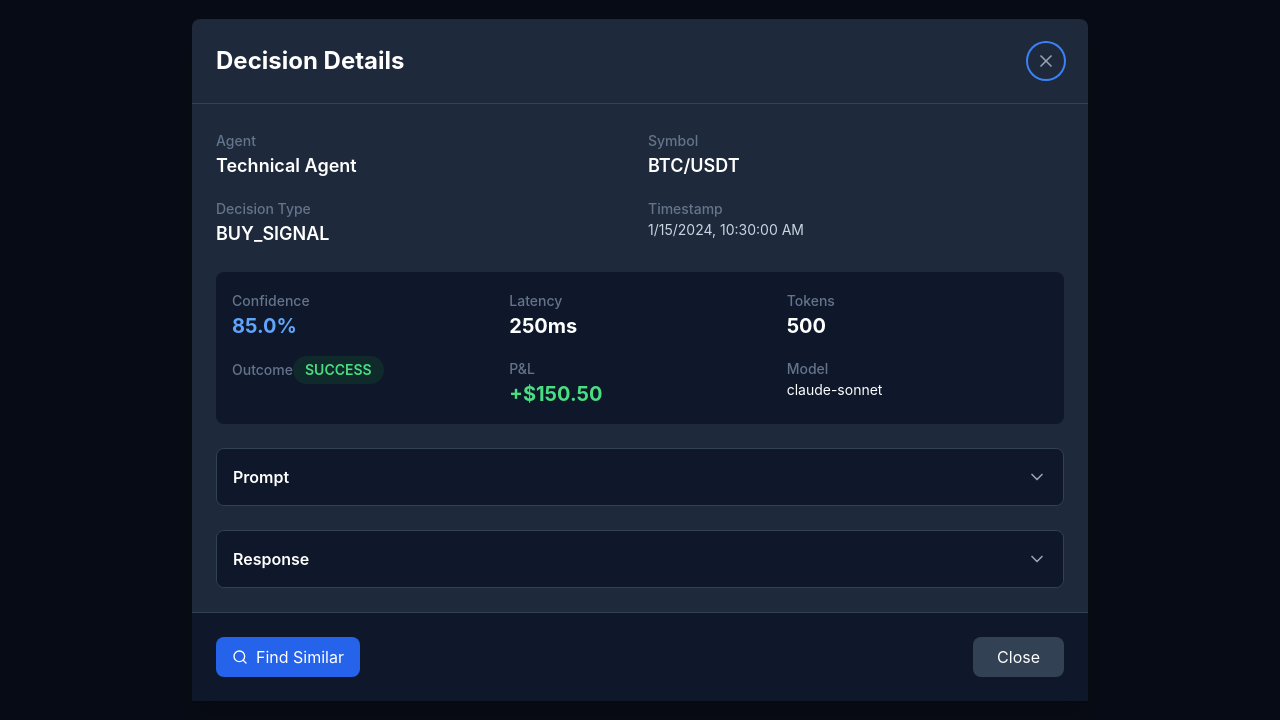
Test: DecisionDetail › Expand/Collapse Sections › prompt section expands when clicked
The image size is (1280, 720).
What coordinates should you click on to do the following:
click the button with aria-label "expand prompt"
I would click on:
 (261, 477)
Its box is [217, 449, 1063, 505].
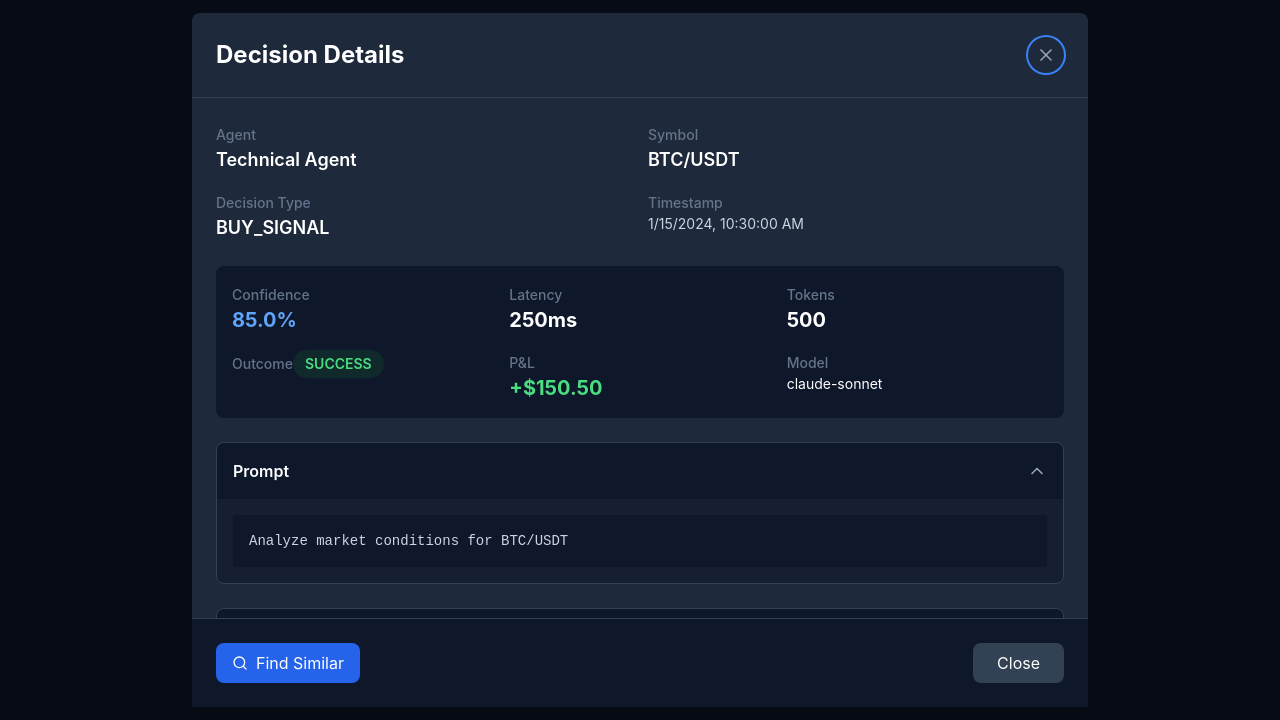
Expected: the text "Analyze market conditions for BTC/USDT" is shown, [233, 515, 1047, 567]
Expected: the button named "expand prompt" is expanded, [217, 443, 1063, 499]
